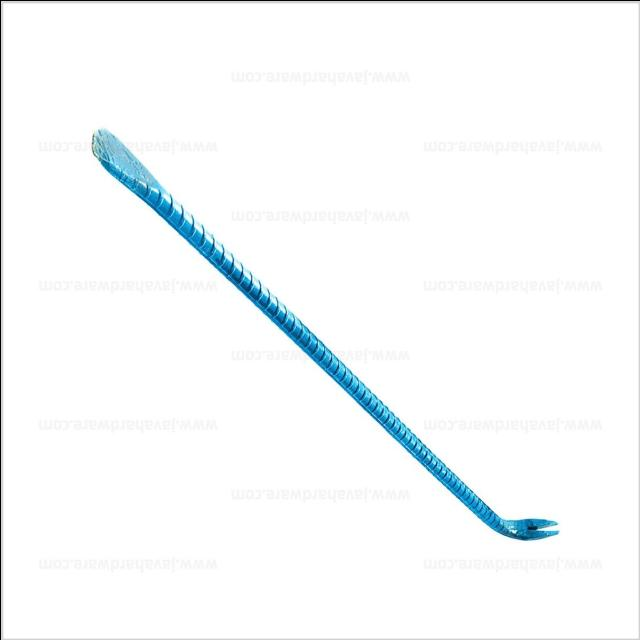Linggis: (90, 130, 559, 546)
